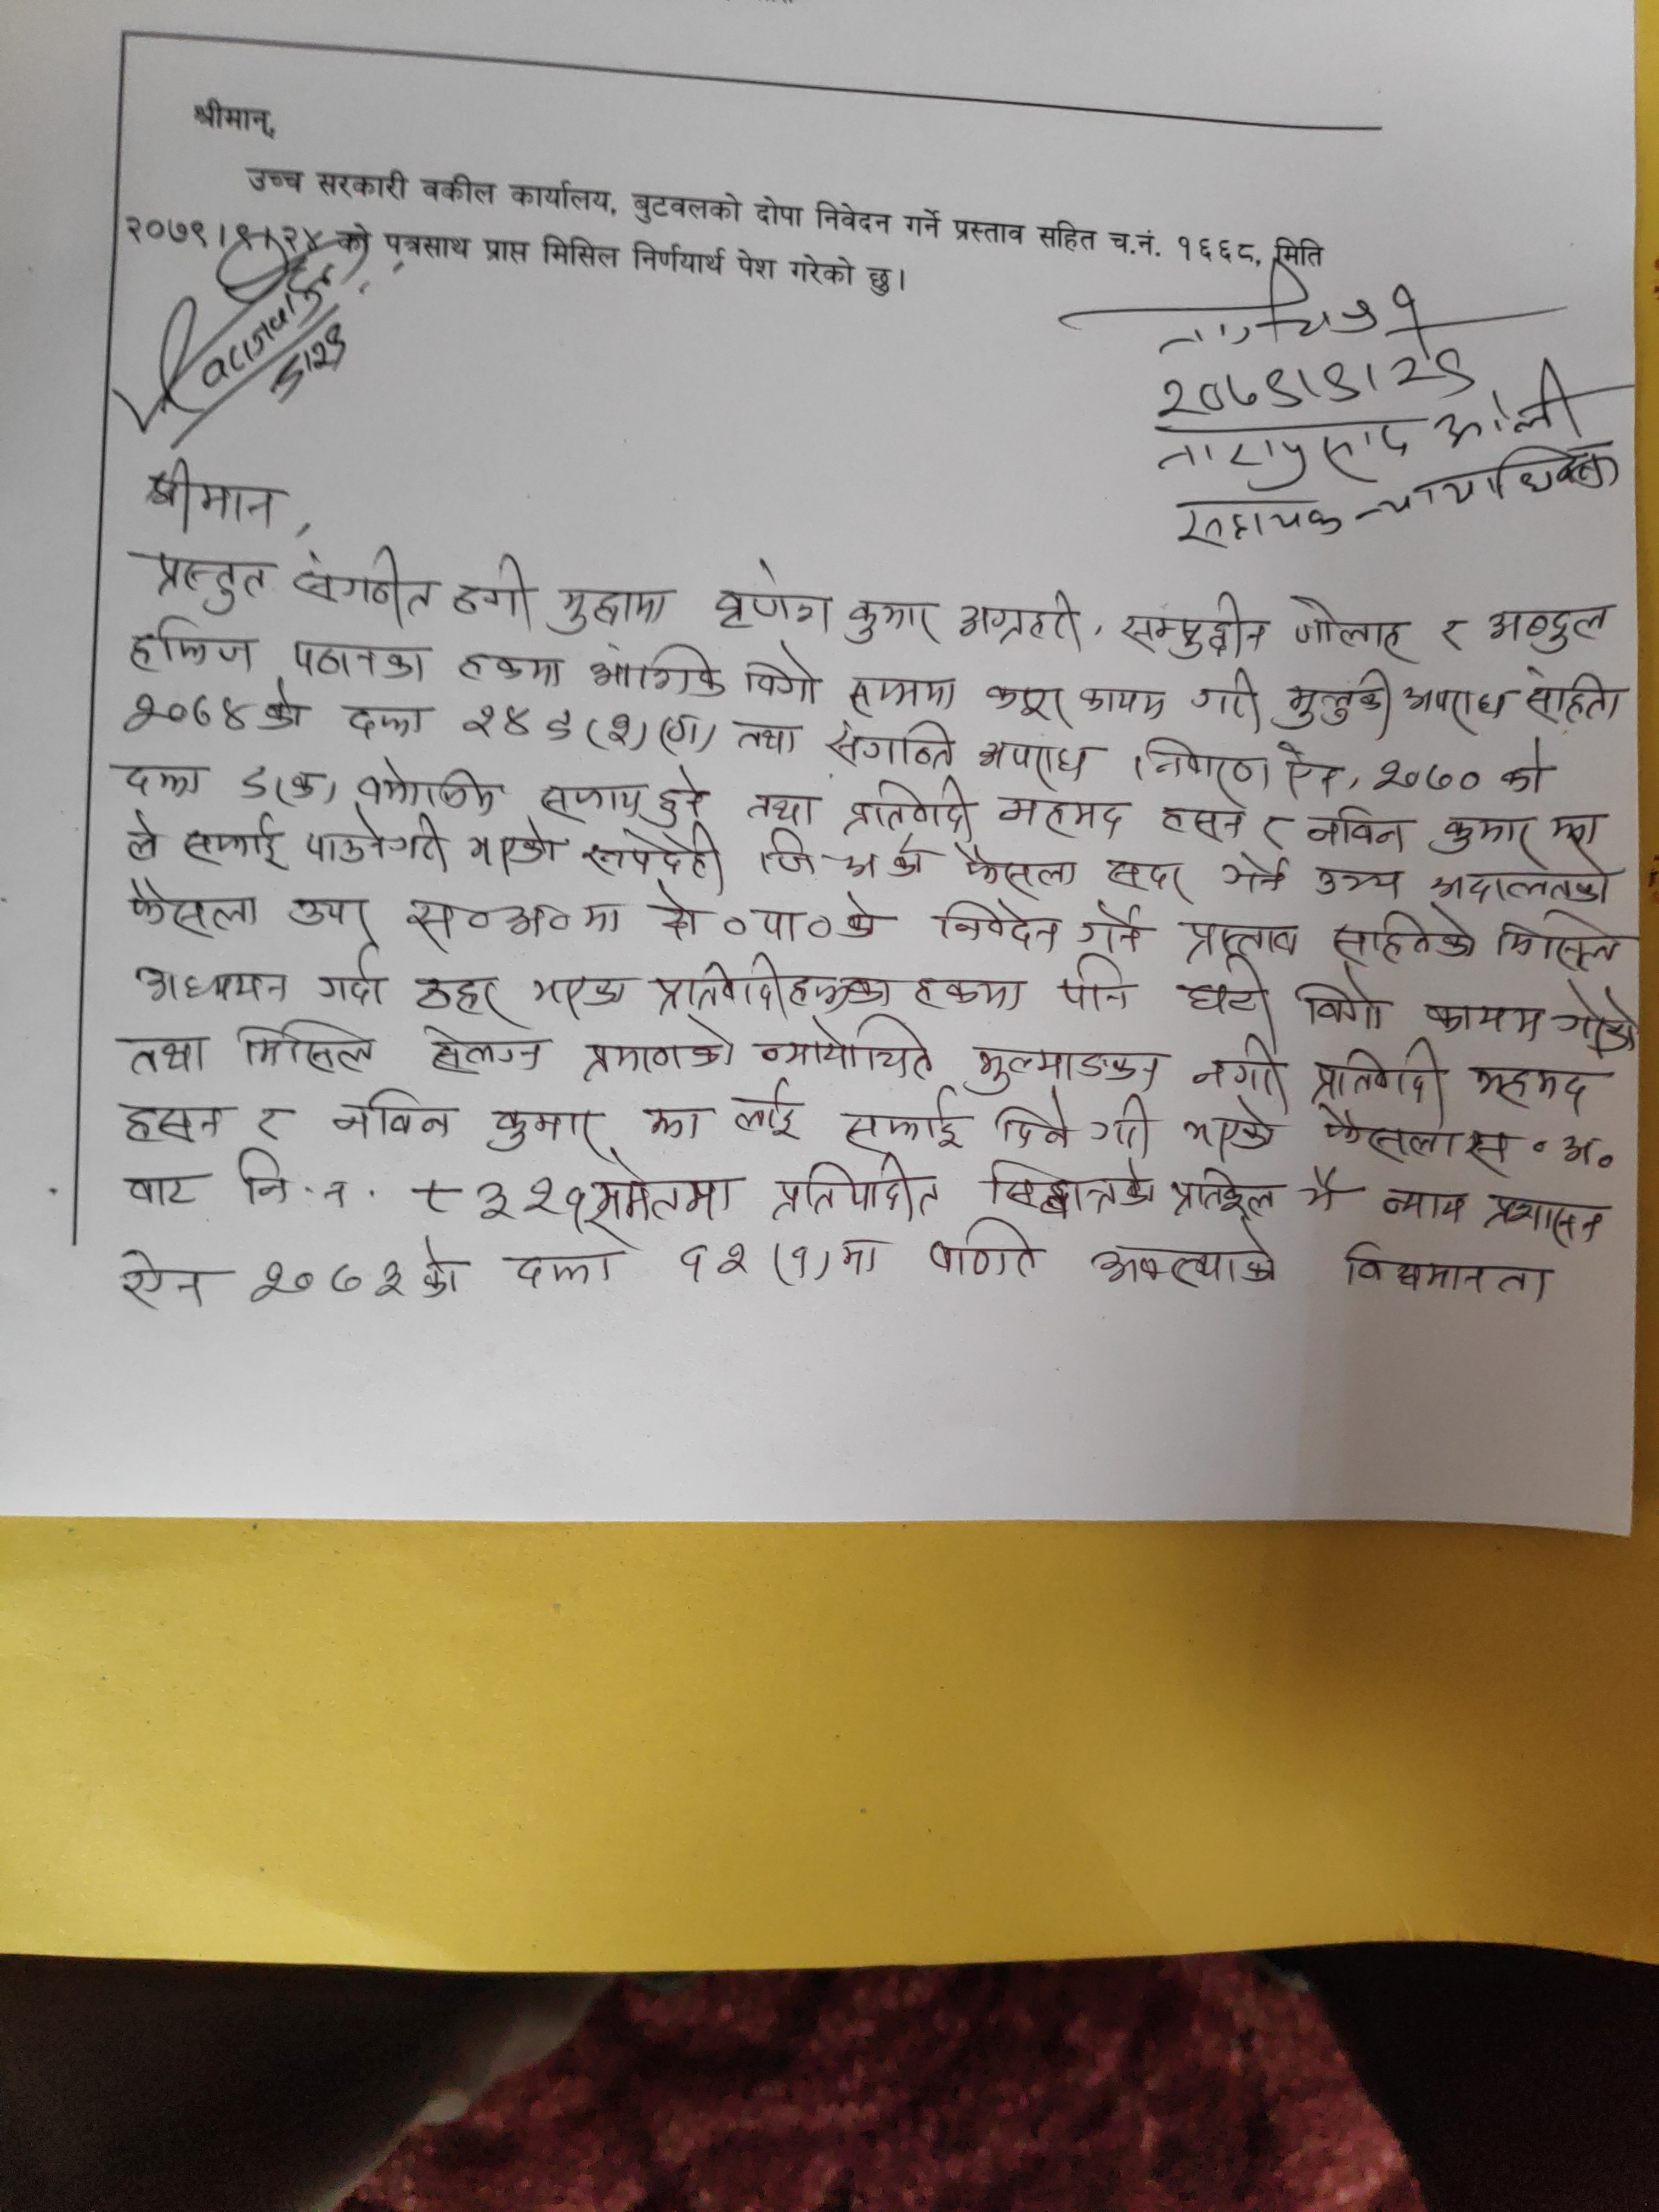text: (1152, 348, 1469, 418), (1148, 406, 1410, 488), (650, 948, 892, 1014), (1340, 1237, 1553, 1310), (1087, 1223, 1279, 1291), (580, 1153, 742, 1233), (286, 542, 441, 624), (756, 1012, 938, 1080), (769, 1151, 945, 1221), (1434, 371, 1595, 444), (1117, 587, 1272, 662), (232, 1143, 376, 1223), (1169, 491, 1347, 556), (962, 1040, 1169, 1094), (577, 1017, 739, 1085), (979, 1155, 1162, 1214), (141, 456, 281, 533), (410, 1170, 589, 1230), (1429, 852, 1614, 909), (711, 559, 836, 643), (119, 613, 272, 681), (1286, 589, 1419, 664), (1310, 1101, 1462, 1165), (1309, 1038, 1450, 1106), (305, 801, 450, 867), (401, 895, 626, 937), (228, 1012, 378, 1075), (1284, 662, 1399, 742), (1464, 1118, 1619, 1177), (1127, 733, 1274, 796), (281, 627, 430, 688), (1330, 904, 1483, 963), (244, 1256, 411, 1310), (138, 550, 274, 617), (1493, 904, 1624, 972), (352, 752, 502, 812), (587, 639, 725, 704), (836, 1085, 960, 1155), (124, 874, 263, 935), (580, 824, 727, 881), (924, 1212, 1044, 1282), (542, 577, 671, 641), (946, 587, 1079, 650), (132, 958, 291, 1010), (1521, 655, 1628, 732), (1464, 1059, 1593, 1122), (838, 777, 978, 834), (821, 719, 964, 775), (925, 894, 1060, 953), (444, 552, 538, 636), (1549, 974, 1643, 1057), (328, 1083, 457, 1144), (1486, 597, 1622, 655), (500, 1228, 626, 1289), (411, 1021, 545, 1076), (1291, 963, 1387, 1036), (843, 665, 969, 721), (532, 770, 655, 826), (1483, 1191, 1607, 1247), (455, 634, 566, 695), (1399, 678, 1513, 737), (969, 733, 1091, 787), (483, 1103, 605, 1157), (1188, 1031, 1284, 1099), (119, 688, 256, 735), (1168, 1163, 1279, 1221), (181, 812, 289, 871), (1368, 745, 1490, 798), (843, 589, 943, 651), (1180, 1096, 1277, 1158), (1427, 810, 1542, 862), (110, 1247, 206, 1310), (1178, 956, 1269, 1022), (739, 639, 823, 711), (993, 1094, 1086, 1158), (992, 792, 1122, 838), (460, 698, 575, 747), (1424, 996, 1546, 1042), (1185, 669, 1270, 733), (1304, 803, 1408, 855), (906, 970, 1030, 1014), (1154, 789, 1253, 843), (462, 819, 561, 873), (310, 944, 389, 1012), (1056, 951, 1134, 1017), (113, 1101, 228, 1143), (410, 972, 511, 1019), (1182, 914, 1300, 954), (723, 1076, 796, 1141), (110, 758, 209, 805), (1075, 676, 1178, 721), (1084, 1094, 1159, 1155), (338, 702, 436, 745), (1495, 732, 1556, 801), (983, 674, 1066, 725), (530, 972, 629, 1014), (1276, 738, 1351, 792), (1101, 855, 1194, 899), (119, 1031, 206, 1076), (1310, 864, 1408, 904), (650, 761, 706, 831), (1380, 1181, 1469, 1224), (680, 1233, 755, 1284), (737, 711, 807, 765), (282, 895, 371, 937), (420, 1235, 469, 1306), (1077, 899, 1143, 951), (1215, 848, 1290, 892), (124, 1170, 200, 1212), (256, 690, 315, 738), (742, 787, 821, 824), (119, 810, 167, 866), (640, 1103, 706, 1143), (833, 1233, 885, 1280), (1546, 808, 1608, 846), (1300, 1165, 1345, 1212), (1436, 611, 1478, 660), (281, 770, 331, 805), (247, 1099, 291, 1139), (1258, 810, 1298, 852), (230, 763, 272, 799), (782, 1240, 812, 1280)
